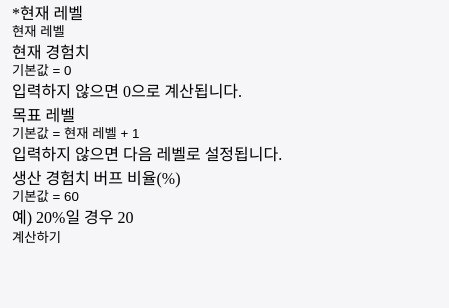
WalnutForm › 제출 뒤 값을 고치면 그 칸의 오류만 사라진다
This screenshot has width=449, height=308.
Type "120" into the number field labelled "생산 경험치 버프 비율(%)" at (222, 196), box [12,189,432,204]
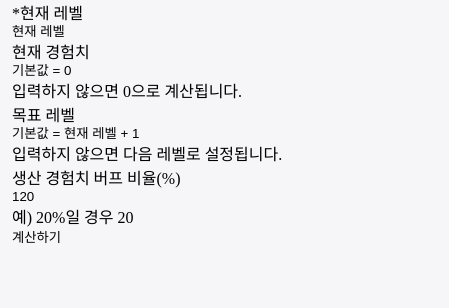
Click the button "계산하기" at (37, 238), box [12,231,61,244]
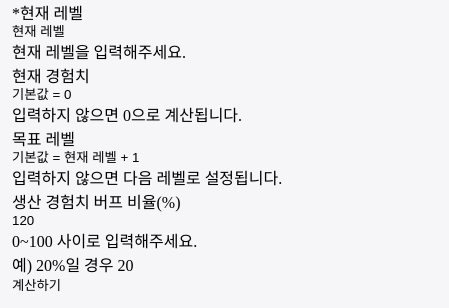
Type "60" into the number field labelled "현재 레벨" at (222, 32), box [12,24,432,39]
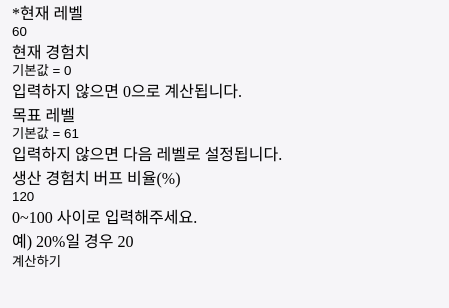
Result: the text "0~100 사이로 입력해주세요." is shown at [12,209,197,226]
Result: the text "현재 레벨을 입력해주세요." is gone
